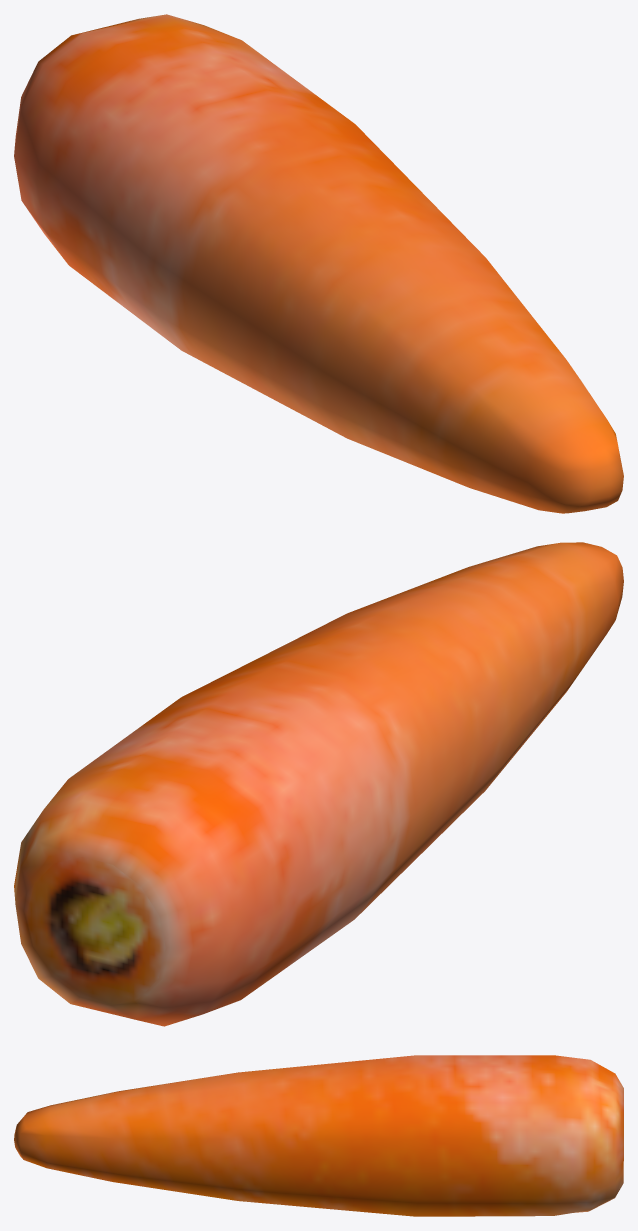
File: Carrot.fbx
The picture shows the model from 3 angles, top to bottom: view 1: azimuth 30°, elevation 25°; view 2: azimuth 150°, elevation 25°; view 3: azimuth 270°, elevation 25°; orthographic projection. The views are drawn at different scales.
Visible parts, largest first — view 1: Carrot; view 2: Carrot; view 3: Carrot.
Boxes of the visible parts, bbox=[...] form: Carrot: bbox=[14, 14, 623, 513]; Carrot: bbox=[14, 542, 623, 1026]; Carrot: bbox=[14, 1055, 623, 1216].
Size of the model in its own units: 6.79 by 6.33 by 24.88.
